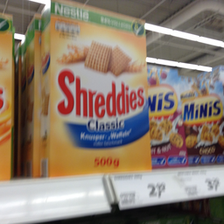cereal: (38, 1, 145, 180), (177, 75, 224, 168)
